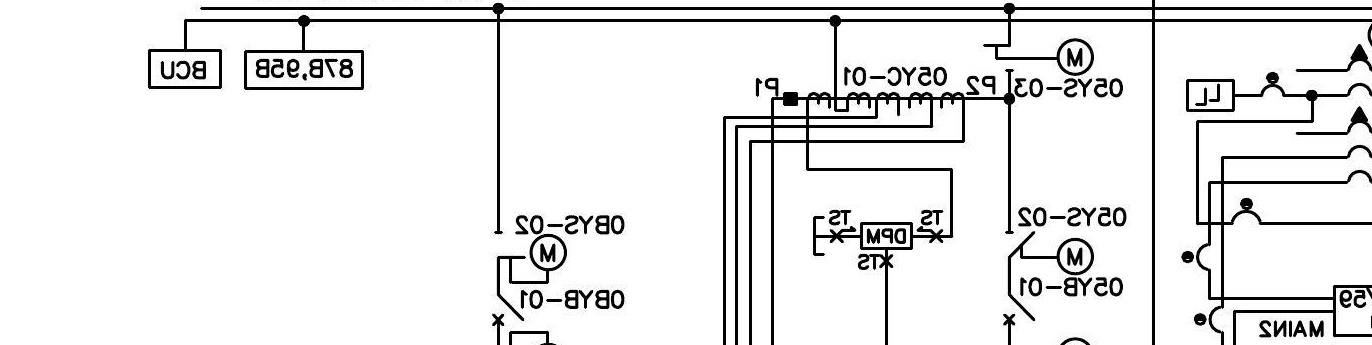115_1way_ds_w_motor: (982, 37, 1095, 77), (1004, 230, 1095, 276), (494, 230, 568, 284)
115_breaker: (491, 293, 525, 327), (1003, 293, 1036, 326)
BCU: (147, 48, 223, 90)
DPM: (859, 222, 913, 250)
LL: (1185, 78, 1236, 113)
